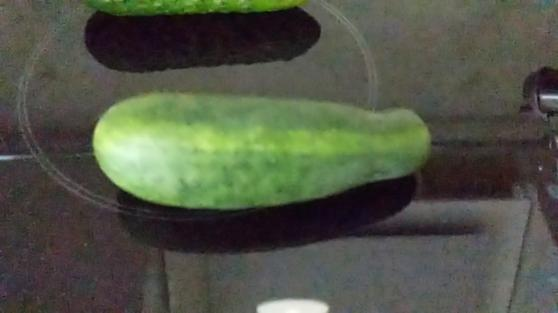cucumber: (91, 89, 432, 211)
